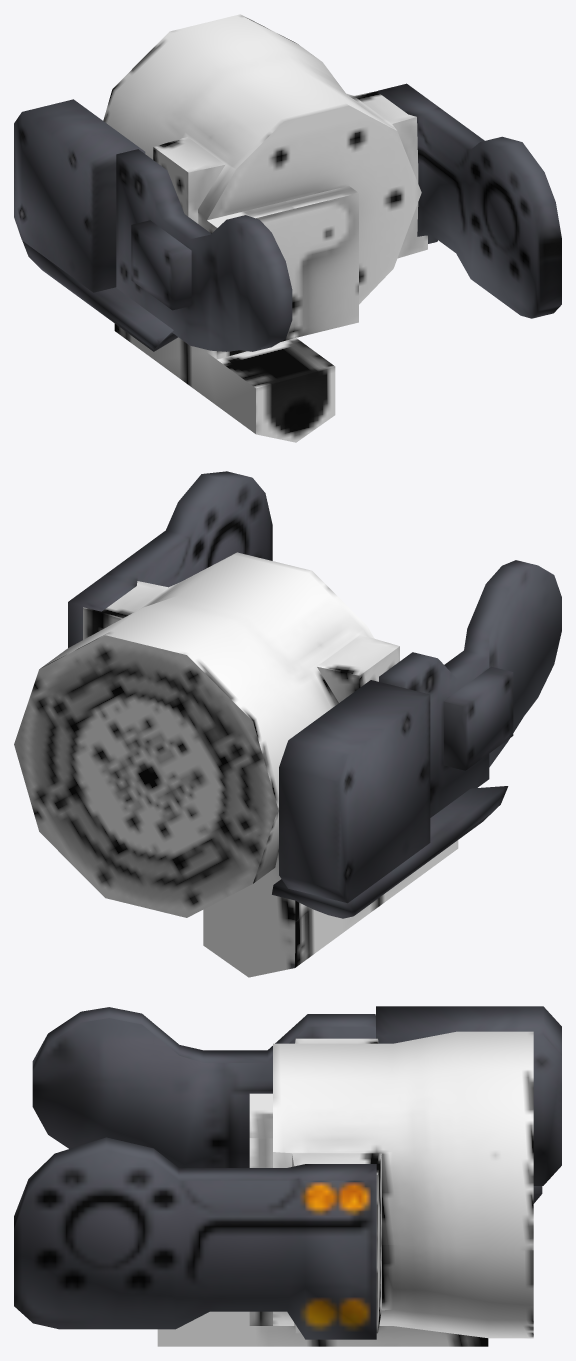
Rendered from l_larm.obj.
3 renders of one model, top to bottom at view 1: azimuth 30°, elevation 25°; view 2: azimuth 150°, elevation 25°; view 3: azimuth 270°, elevation 25°, orthographic. The views are drawn at different scales.
Parts seen in each view (by area): view 1: <dummy_root>; view 2: <dummy_root>; view 3: <dummy_root>.
Boxes of the visible parts, left/top/right/bottom form: <dummy_root>: left=14, top=14, right=561, bottom=442; <dummy_root>: left=14, top=471, right=561, bottom=977; <dummy_root>: left=14, top=1006, right=561, bottom=1346.
Size of the model in its own units: 0.1433 by 0.1245 by 0.1854.
Materials: 1 (1 with a texture image).
